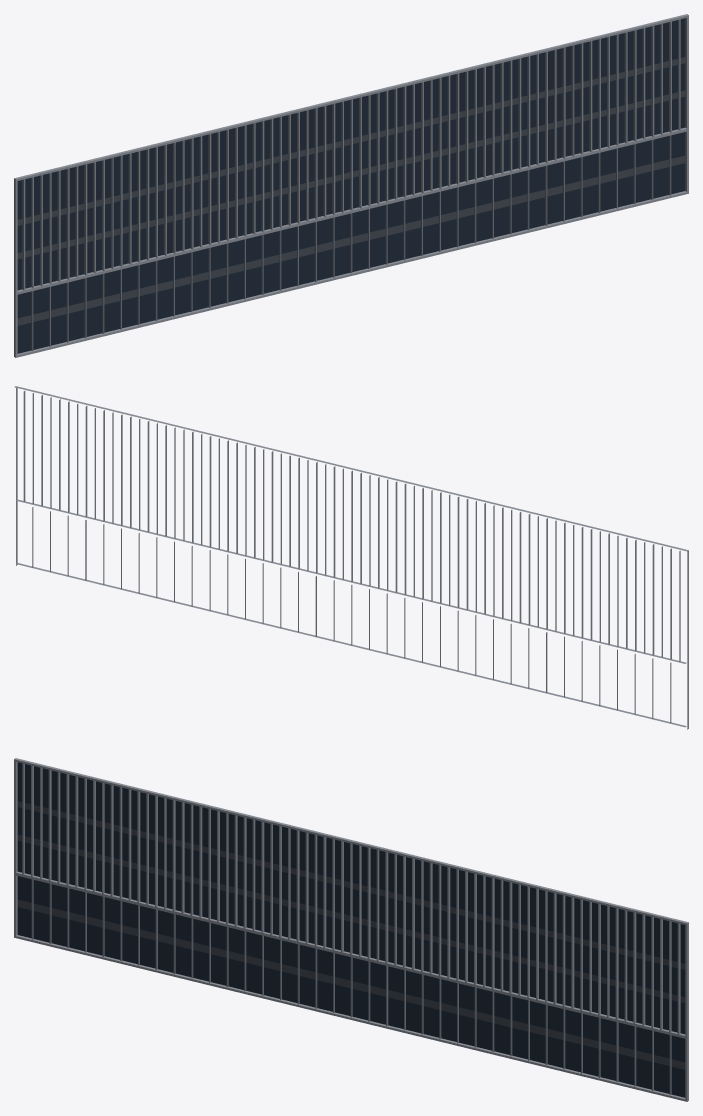
The model's file is east-grille-v4-hi.glb.
3 views of the same model, one above another, from view 1: azimuth 30°, elevation 25°; view 2: azimuth 150°, elevation 25°; view 3: azimuth 330°, elevation 25° (orthographic).
Parts seen in each view (by area): view 1: east_grille_v4_hi; view 2: east_grille_v4_hi; view 3: east_grille_v4_hi.
Boxes of the visible parts, box(x1,y1,x2,y2) form: east_grille_v4_hi: box(14, 14, 688, 357); east_grille_v4_hi: box(14, 386, 688, 729); east_grille_v4_hi: box(14, 758, 688, 1101).
Size of the model in its own units: 102 by 25.9 by 0.45.
